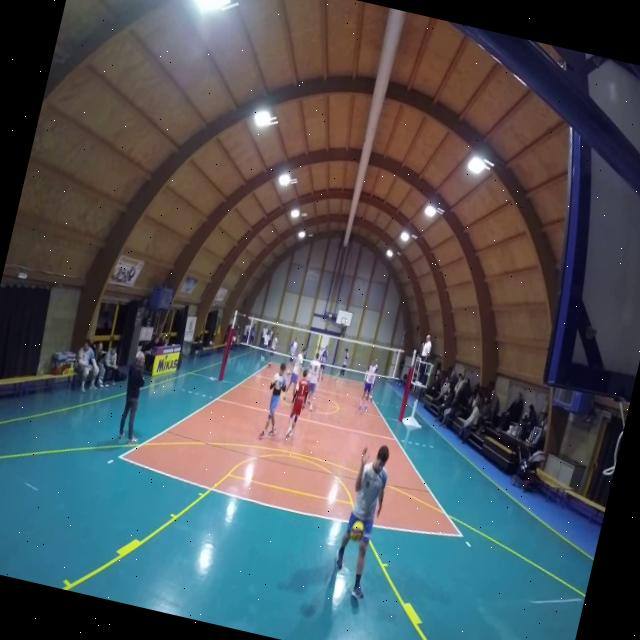Volleyball: (346, 514, 368, 546)
